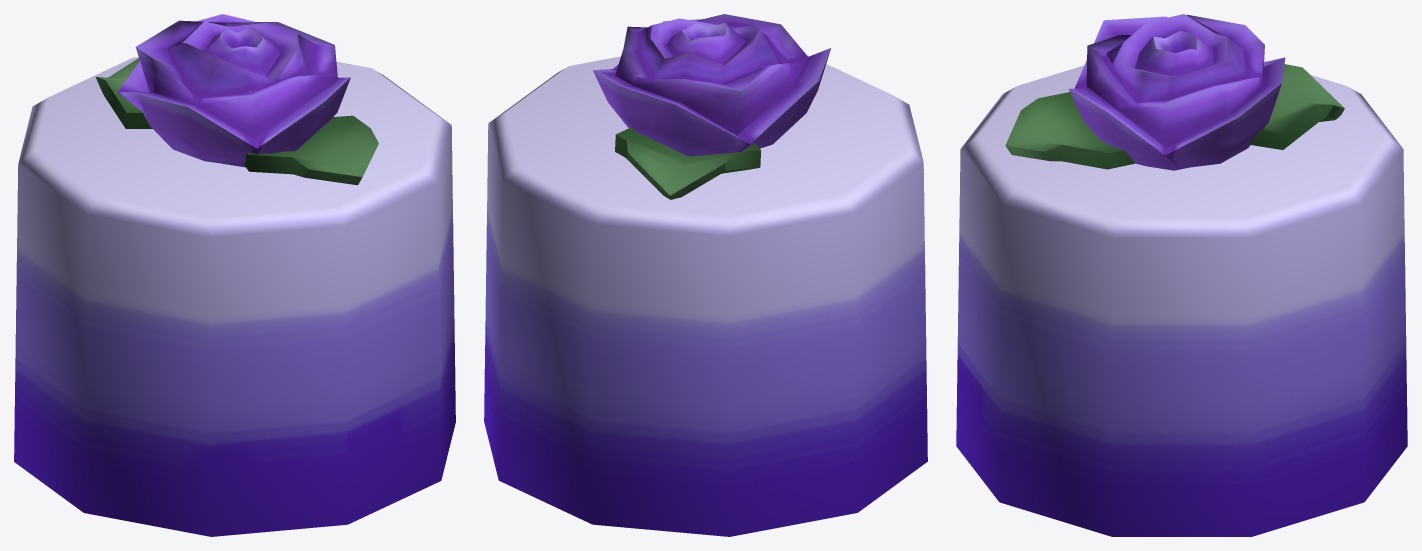
Rendered from RoseCake_Small.fbx.
3 renders of one model, left to right at view 1: azimuth 30°, elevation 25°; view 2: azimuth 150°, elevation 25°; view 3: azimuth 270°, elevation 25°, orthographic.
Visible parts, largest first — view 1: RoseCake_Small; view 2: RoseCake_Small; view 3: RoseCake_Small.
Boxes of the visible parts, x1,y1,x2,y2 form: RoseCake_Small: (14,14,455,536); RoseCake_Small: (484,14,927,536); RoseCake_Small: (956,14,1407,536).
Bounding box in the file's own units: 36.87 × 38.82 × 38.77.
